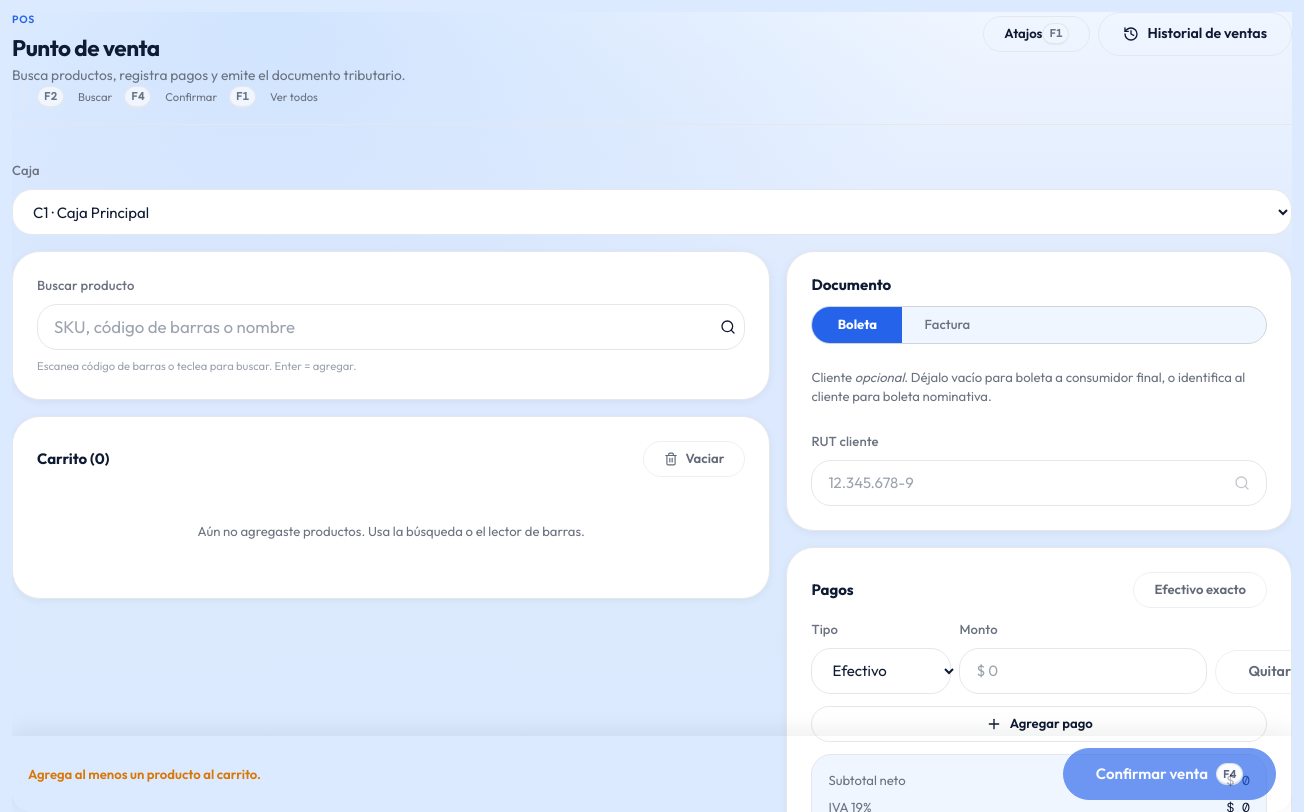
it: PosPage › permite agregar un producto al carrito y calcula el total bruto
The image size is (1304, 812).
Type "leche" into the field with placeholder "SKU, código de barras o nombre". click: {"x": 379, "y": 327}
box: [38, 305, 720, 349]
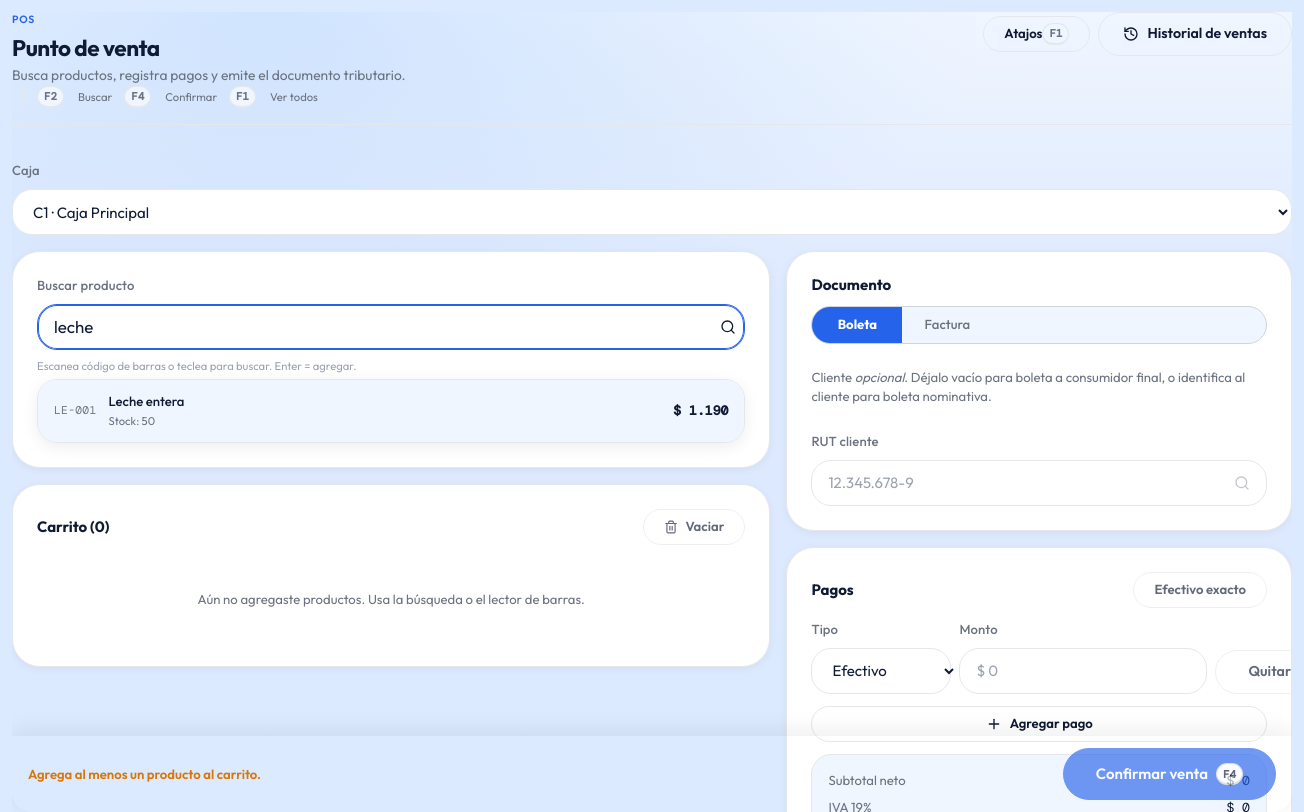
Espera que aparezca el resultado.
Click the text "Leche entera". click: {"x": 146, "y": 401}
box: [108, 393, 184, 409]
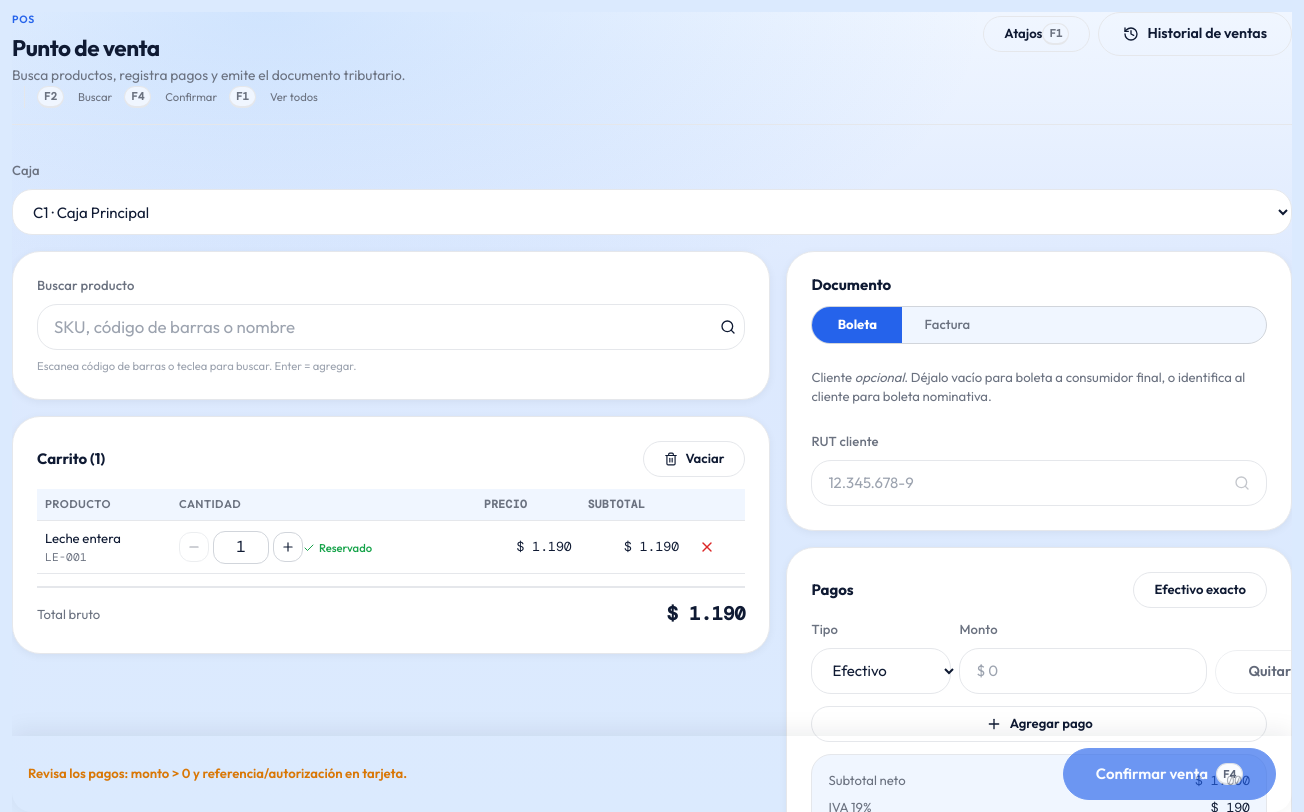
Expected: the text "Carrito (1)" is shown, [37, 450, 105, 468]
Expected: the 1st text "$ 1.190" is shown, [476, 521, 580, 574]
